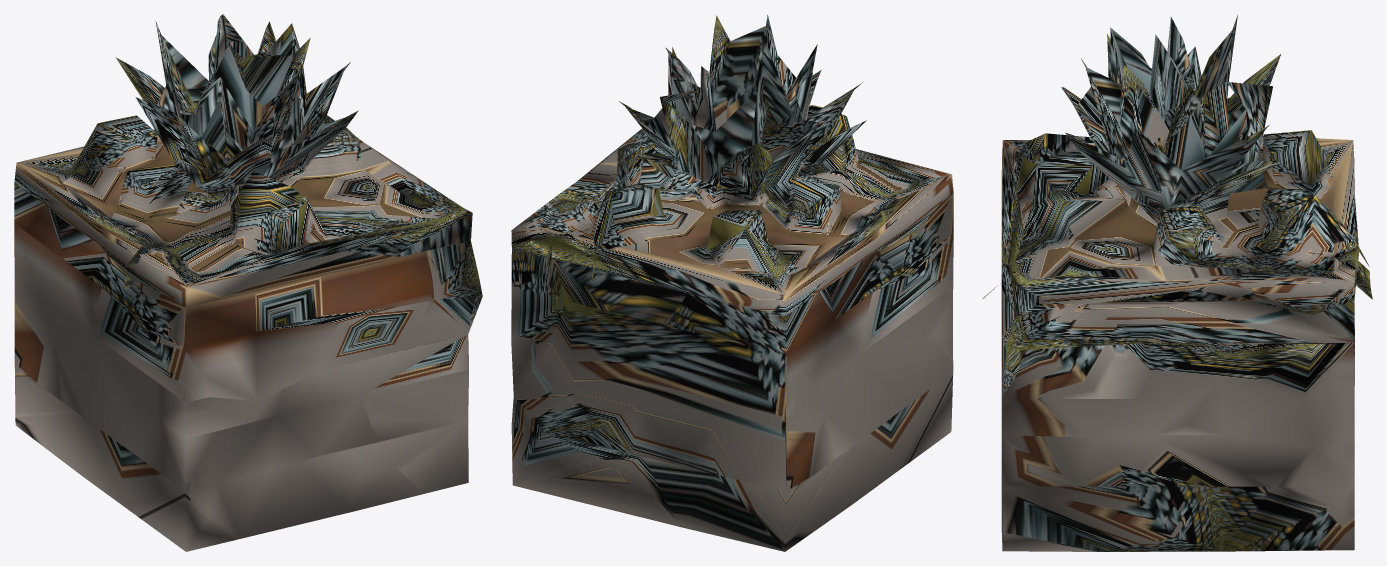
Rendered from planter_lux.glb.
The picture shows the model from 3 angles, left to right: view 1: azimuth 30°, elevation 25°; view 2: azimuth 150°, elevation 25°; view 3: azimuth 270°, elevation 25°; orthographic projection. The views are drawn at different scales.
Visible parts, largest first — view 1: LO; view 2: LO; view 3: LO.
Boxes of the visible parts, left/top/right/bottom form: LO: left=14, top=14, right=482, bottom=551; LO: left=511, top=15, right=953, bottom=551; LO: left=982, top=15, right=1372, bottom=551.
Bounding box in the file's own units: 1.2 × 1.55 × 1.25.
Materials: 1 (1 with a texture image).
